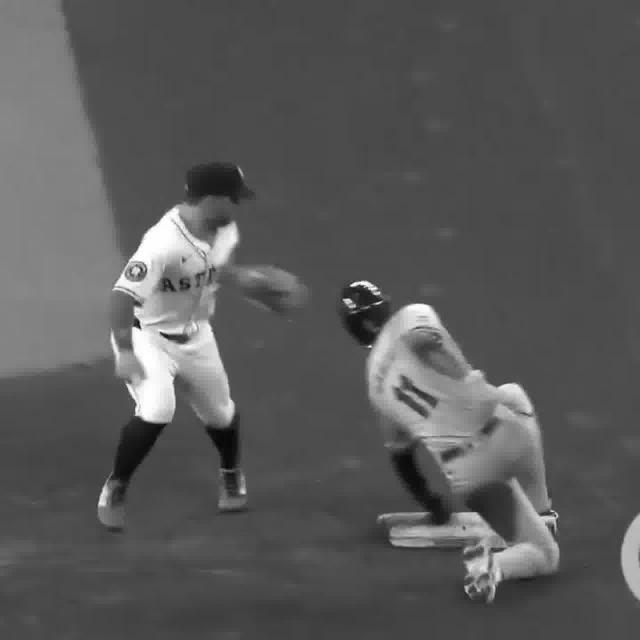base: (380, 509, 510, 545)
baseball_glove: (238, 263, 314, 318)
shoe: (465, 542, 498, 608), (213, 459, 250, 516), (100, 475, 127, 536)
